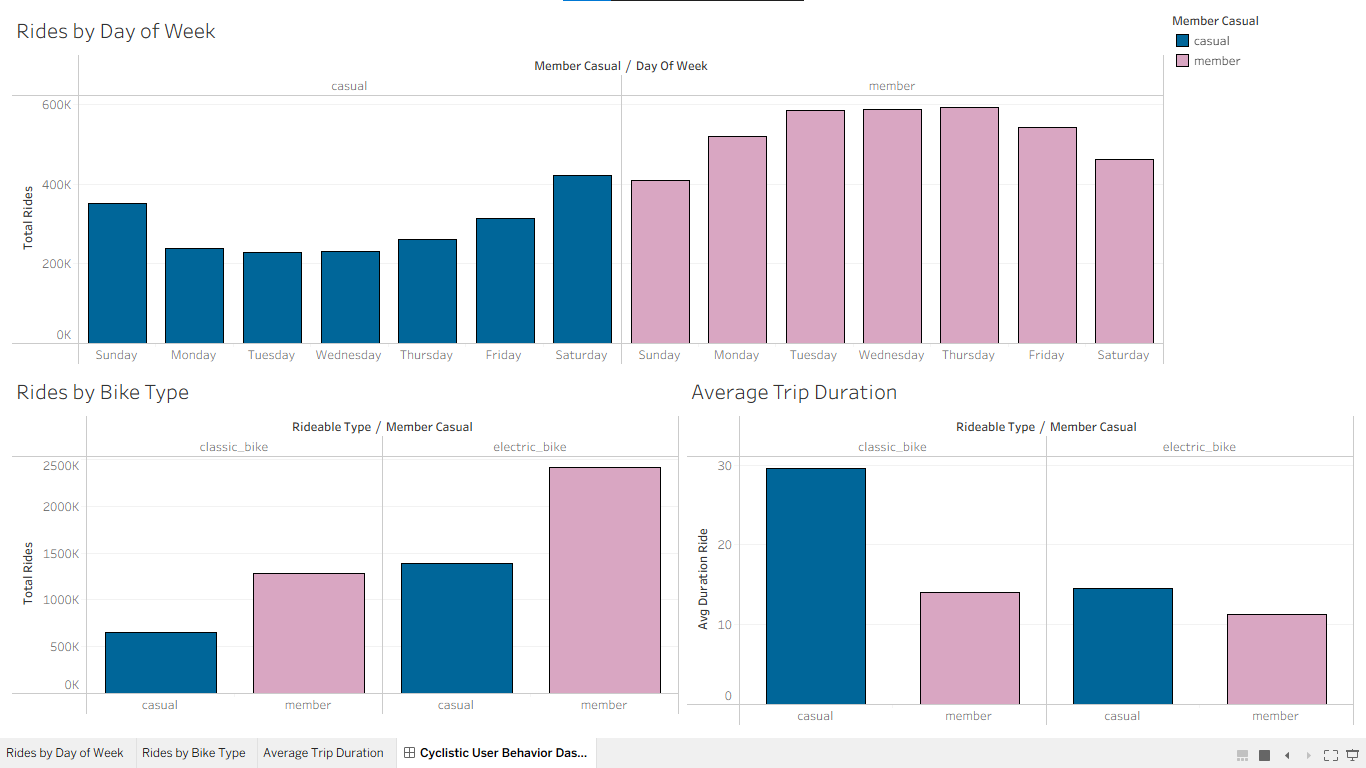

The dashboard page shown, as its layout file describes it:
{"tool":"tableau","page":{"name":"Cyclistic User Behavior Dashboard","canvas":[1000,1000],"units":"permille","ordinal":0},"visuals":[{"type":"worksheet","title":"Rides by Day of Week","mark":"Automatic","rows":["total_rides"],"cols":["member_casual","day_of_week"],"box":[6.9,13.5,847.6,486.5]},{"type":"legend","title":"Rides by Day of Week","param":"[federated.1xmr2560zczlc4146sqcq03euxq1].[none:member_casual:nk]","box":[854.5,13.5,138.6,486.5]},{"type":"worksheet","title":"Rides by Bike Type","mark":"Automatic","rows":["total_rides"],"cols":["rideable_type","member_casual"],"box":[6.9,500,493,486.5]},{"type":"worksheet","title":"Average Trip Duration","mark":"Automatic","rows":["avg_duration_ride"],"cols":["rideable_type","member_casual"],"box":[499.9,500,493.1,486.5]}]}

Visuals, with their boxes on the dashboard's canvas, which has no fixed pixel size, in thousandths of its width and height (x1, y1, x2, y2). These are canvas units, not pixel positions in the 1366x768 screenshot, which may show the page scaled, cropped or inside an application window:
"Rides by Day of Week" worksheet: x1=7 y1=14 x2=854 y2=500
"Rides by Day of Week" legend: x1=854 y1=14 x2=993 y2=500
"Rides by Bike Type" worksheet: x1=7 y1=500 x2=500 y2=986
"Average Trip Duration" worksheet: x1=500 y1=500 x2=993 y2=986
